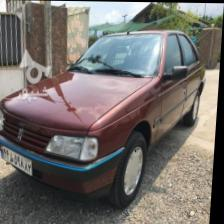plate: (0, 141, 36, 178)
